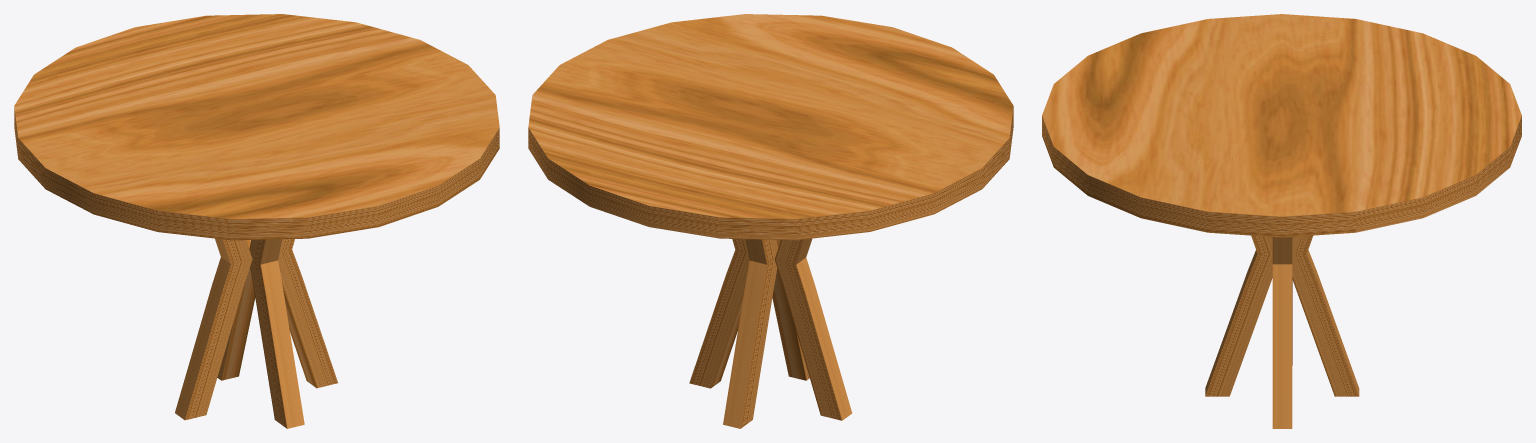
The model's file is MesinhaRedonda.fbx.
3 views of the same model, side by side, from view 1: azimuth 30°, elevation 25°; view 2: azimuth 150°, elevation 25°; view 3: azimuth 270°, elevation 25° (orthographic).
Parts seen in each view (by area): view 1: pCylinder1, pCube4, pCube1, pCube2, pCube3; view 2: pCylinder1, pCube4, pCube3, pCube2, pCube1; view 3: pCylinder1, pCube1, pCube3, pCube2.
Boxes of the visible parts, x1,y1,x2,y2 form: pCylinder1: [14, 14, 499, 240]; pCube4: [175, 238, 252, 420]; pCube1: [249, 239, 304, 428]; pCube2: [278, 239, 337, 388]; pCube3: [217, 240, 255, 380]; pCylinder1: [528, 14, 1013, 240]; pCube4: [774, 238, 852, 420]; pCube3: [723, 239, 777, 428]; pCube2: [689, 239, 749, 388]; pCube1: [772, 240, 809, 380]; pCylinder1: [1042, 14, 1521, 237]; pCube1: [1205, 235, 1272, 396]; pCube3: [1292, 235, 1359, 396]; pCube2: [1272, 237, 1292, 428].
Bounding box in the file's own units: 1.38 × 0.8771 × 1.38.
Materials: 1 (1 with a texture image).
